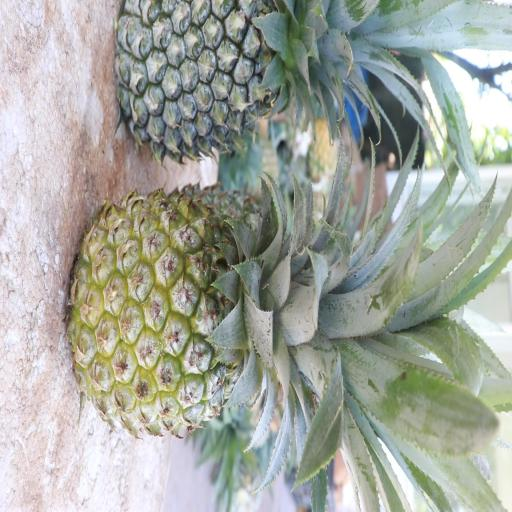------------------------------: (62, 186, 358, 448)
